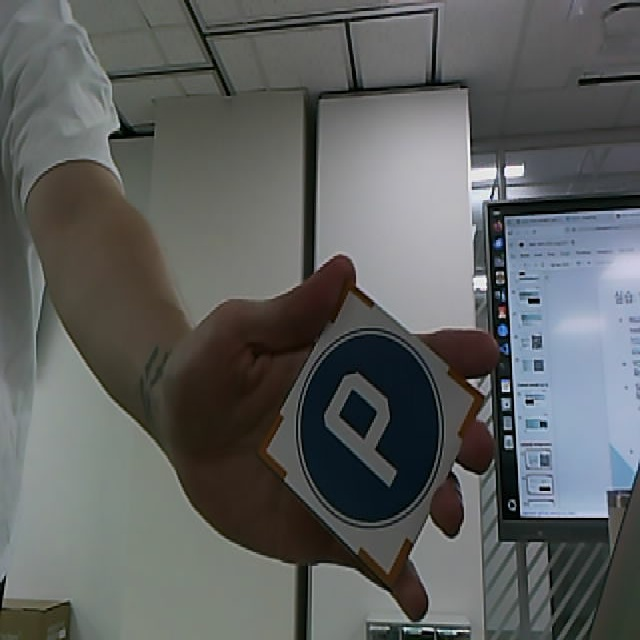parking: (257, 284, 488, 585)
